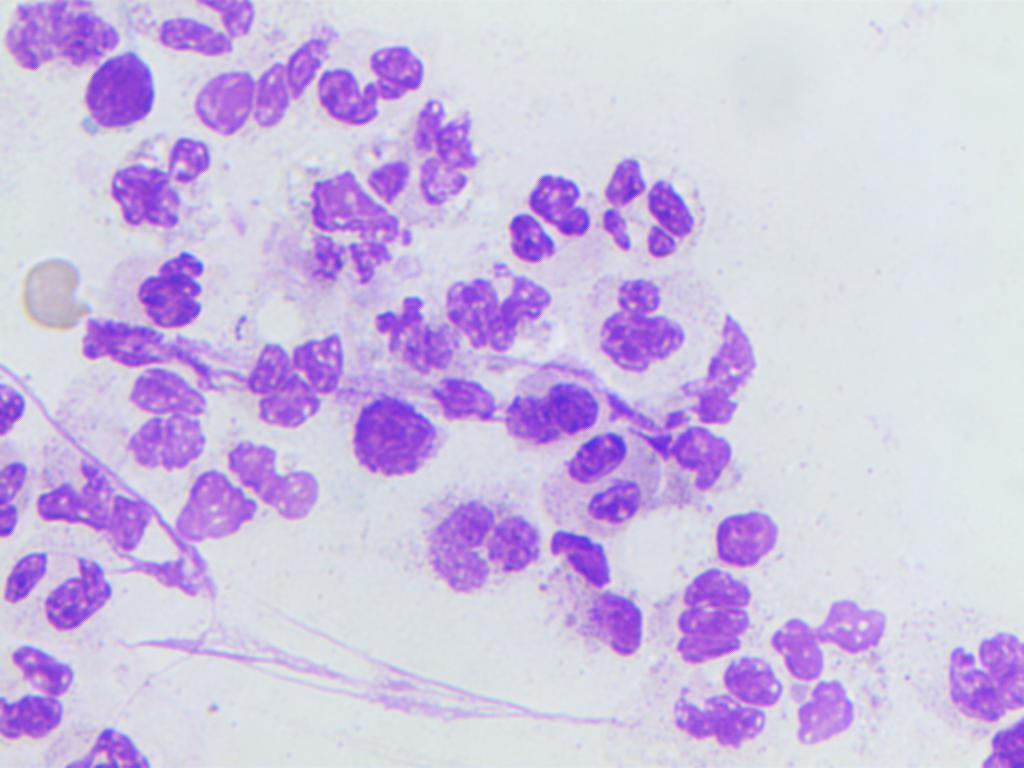erythrocyte: (19, 256, 97, 337)
lymphocyte: (335, 387, 435, 479), (71, 49, 163, 127)
neutrophil: (168, 434, 327, 556), (270, 166, 420, 295), (347, 101, 498, 226), (531, 525, 654, 670), (189, 16, 335, 135), (578, 278, 729, 388), (23, 440, 157, 561), (414, 484, 543, 605), (755, 585, 902, 685), (661, 644, 783, 760), (544, 428, 673, 534), (597, 148, 711, 266), (103, 133, 220, 243), (232, 325, 353, 430), (641, 568, 753, 681), (110, 360, 217, 478), (298, 39, 440, 126), (430, 271, 557, 360), (355, 283, 461, 386), (499, 156, 593, 269), (693, 490, 810, 580), (489, 363, 610, 450), (0, 549, 119, 637), (933, 623, 1024, 735), (656, 411, 764, 505), (119, 240, 215, 331), (785, 675, 877, 765), (3, 637, 72, 743), (55, 715, 163, 768)
